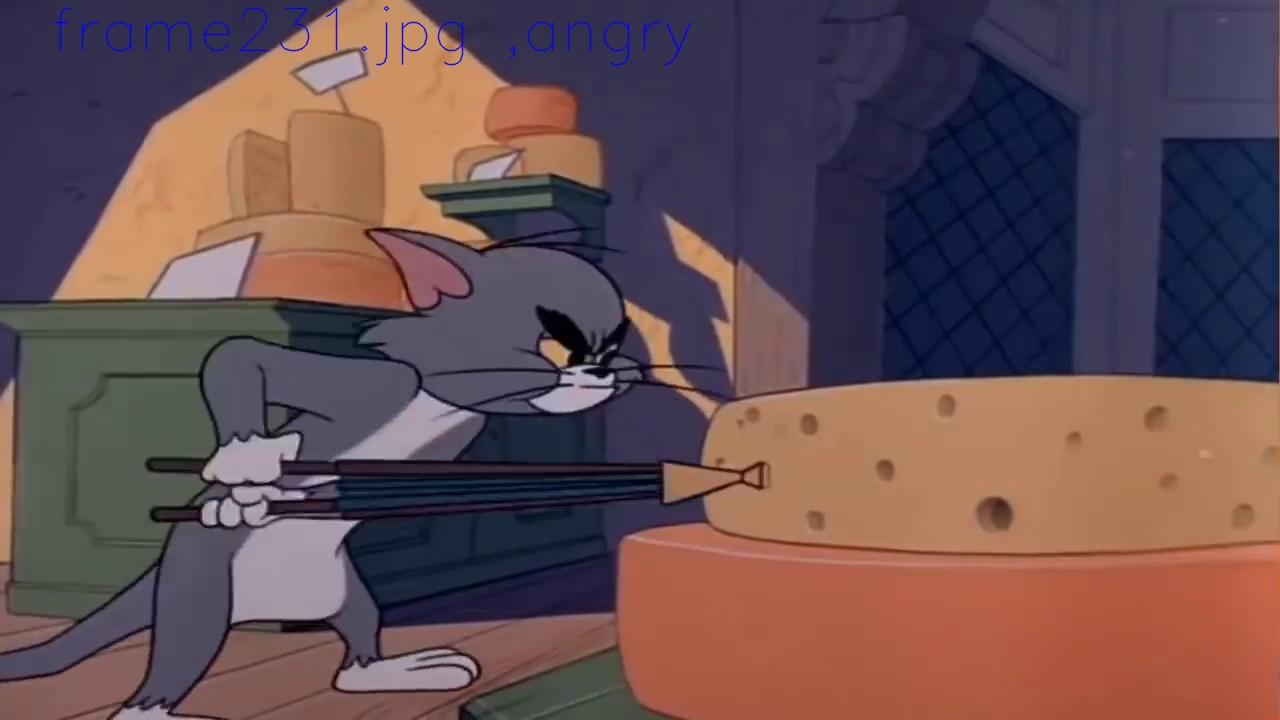angry: (534, 301, 635, 409)
